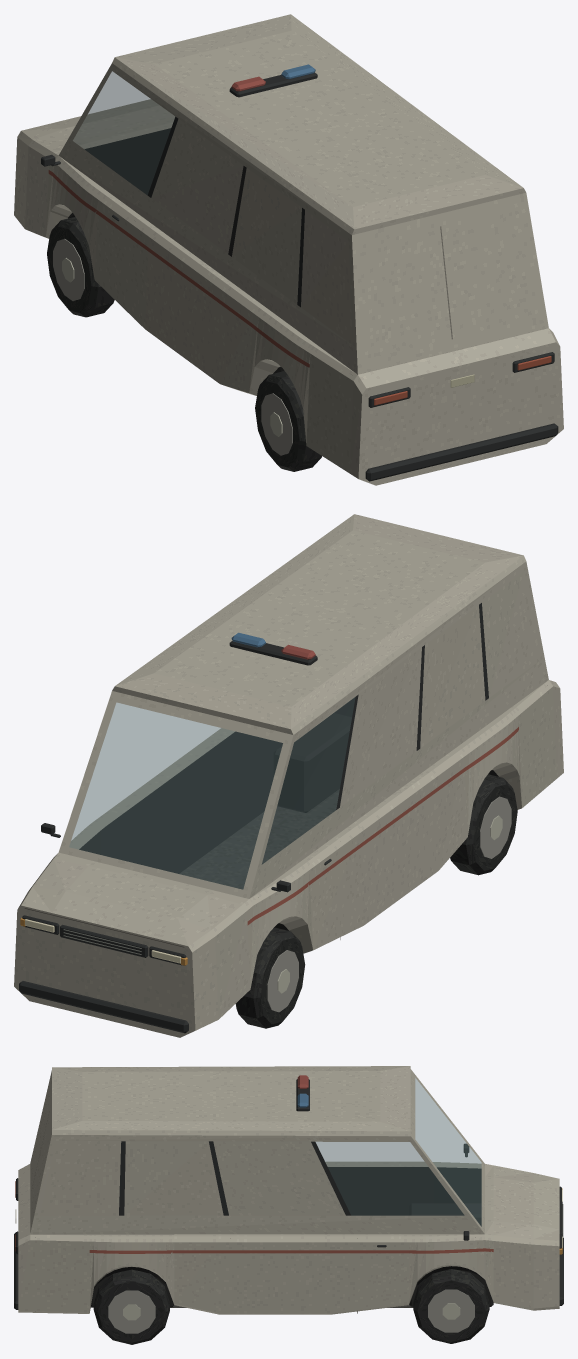
Rendered from vehicle_ambulance.glb.
3 views of the same model, one above another, from view 1: azimuth 30°, elevation 25°; view 2: azimuth 150°, elevation 25°; view 3: azimuth 270°, elevation 25° (orthographic). The views are drawn at different scales.
Parts seen in each view (by area): view 1: closed_body, roof_body, glazing; view 2: closed_body, roof_body, glazing; view 3: closed_body, roof_body, glazing.
Part boxes in pixels (bbox=[...]): closed_body: bbox=[14, 63, 563, 485]; roof_body: bbox=[112, 14, 525, 234]; glazing: bbox=[73, 71, 174, 194]; closed_body: bbox=[14, 561, 563, 1037]; roof_body: bbox=[112, 514, 525, 734]; glazing: bbox=[69, 697, 355, 889]; closed_body: bbox=[14, 1069, 563, 1344]; roof_body: bbox=[52, 1066, 410, 1136]; glazing: bbox=[316, 1078, 481, 1226].
Size of the model in its own units: 2.39 by 2.64 by 6.05.
Materials: 2 (2 with a texture image).
